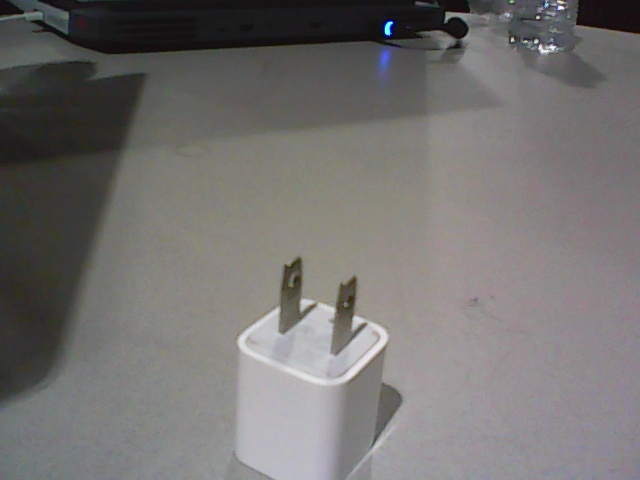charger: (233, 256, 389, 480)
